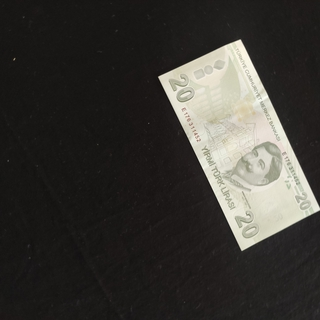20TLBack: (158, 38, 320, 252)
